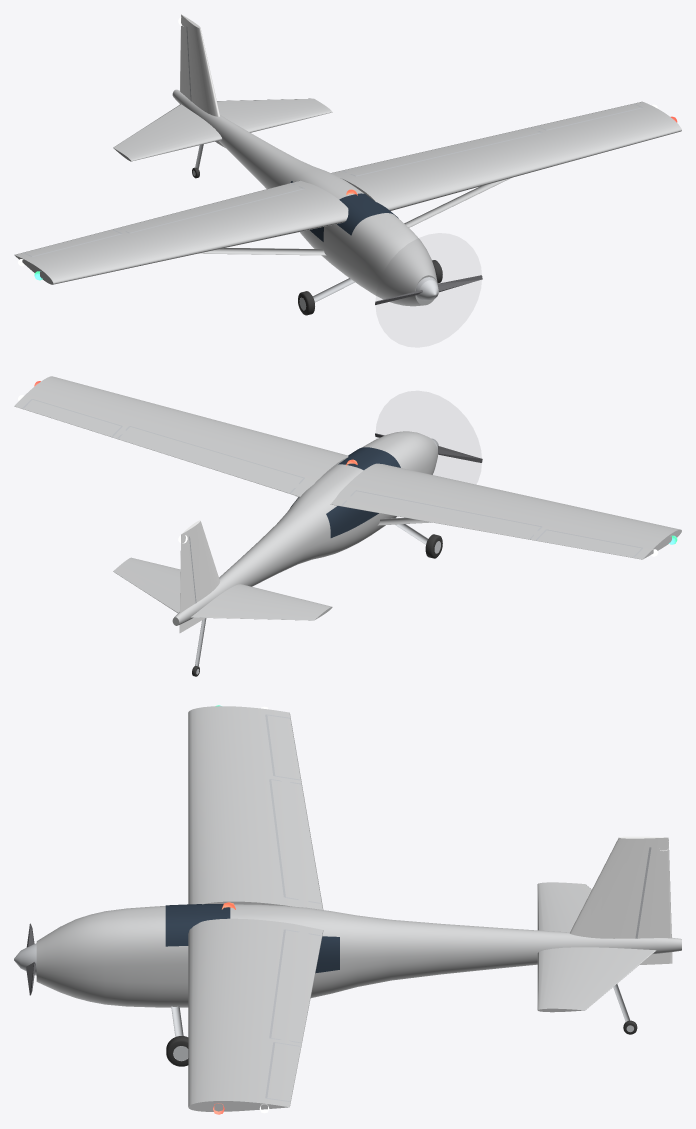
3 renders of one model, top to bottom at view 1: azimuth 30°, elevation 25°; view 2: azimuth 150°, elevation 25°; view 3: azimuth 270°, elevation 25°, orthographic. The views are drawn at different scales.
Parts seen in each view (by area): view 1: airframe, prop; view 2: airframe; view 3: airframe.
Boxes of the visible parts, x1,y1,x2,y2 form: airframe: (14, 14, 681, 315); prop: (375, 275, 482, 304); airframe: (14, 376, 681, 676); airframe: (14, 705, 681, 1114).
Size of the model in its own units: 11.22 by 2.55 by 7.87.
